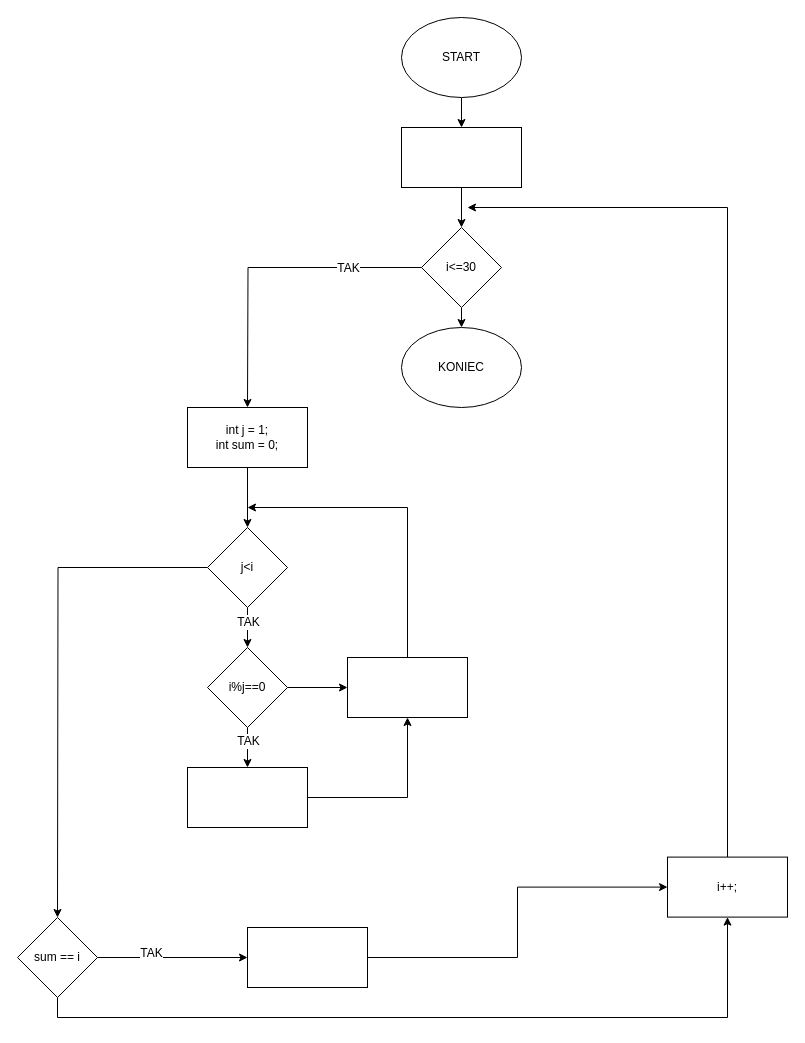
This 805x1043 diagram has some shape labels left out. Each missing label, with the centre of its shape:
int i = 2;: (461,157)
j++;: (407,687)
pisz i: (307,957)
sum+=j;: (247,797)
